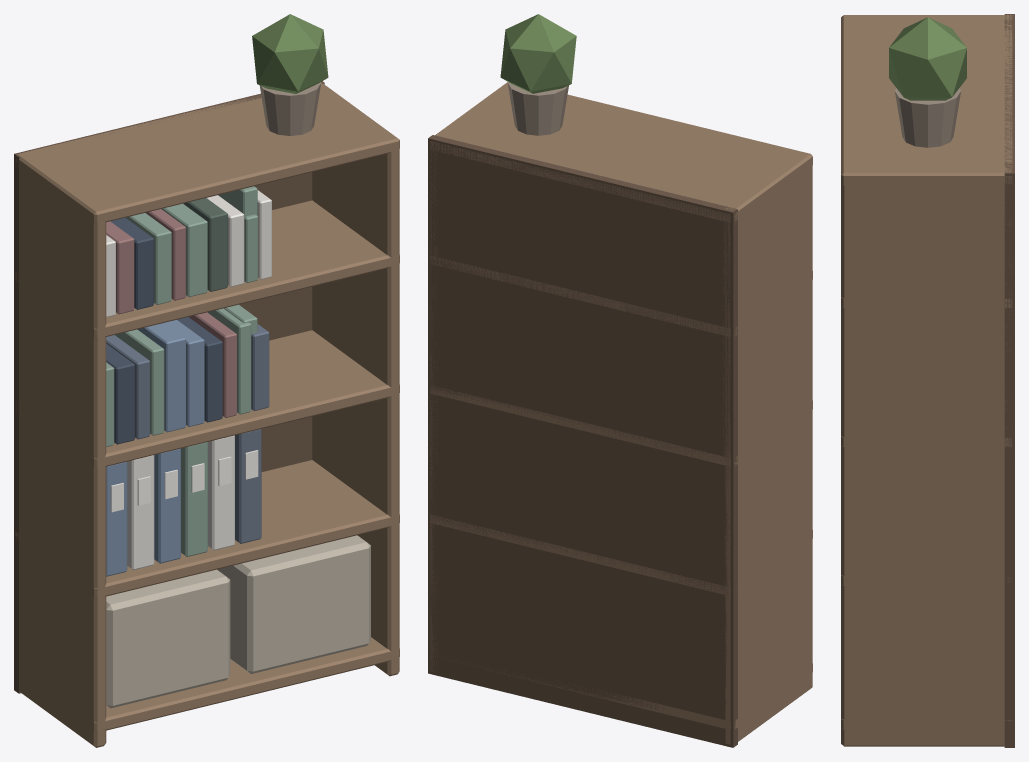
The model's file is bookshelf.glb.
3 renders of one model, left to right at view 1: azimuth 30°, elevation 25°; view 2: azimuth 150°, elevation 25°; view 3: azimuth 270°, elevation 25°, orthographic. The views are drawn at different scales.
Parts seen in each view (by area): view 1: Bookshelf; view 2: Bookshelf; view 3: Bookshelf.
Boxes of the visible parts, x1,y1,x2,y2 form: Bookshelf: [14, 14, 399, 747]; Bookshelf: [428, 14, 812, 747]; Bookshelf: [841, 14, 1014, 747].
Bounding box in the file's own units: 0.74 × 1.5 × 0.34.
